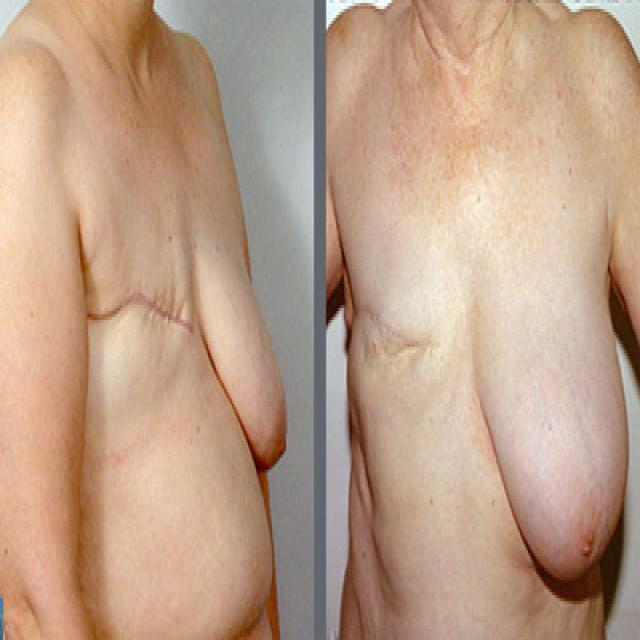Seno herido: (342, 234, 474, 452), (74, 216, 195, 446)
Seno ileso: (477, 235, 632, 614), (197, 210, 291, 497)
